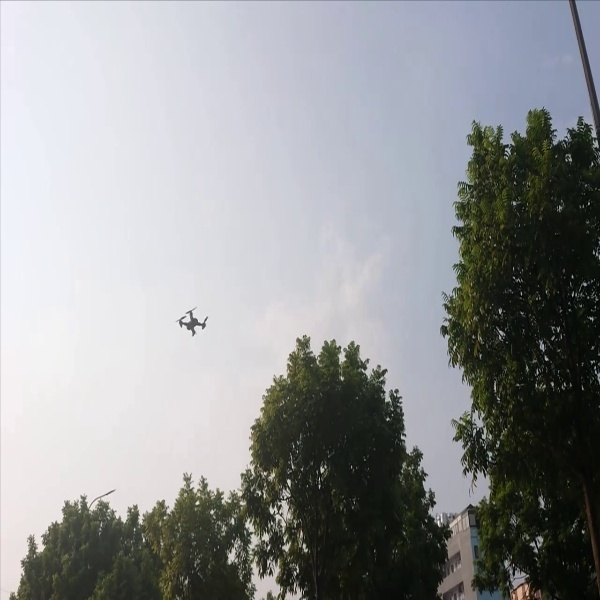drone: (175, 302, 209, 341)
